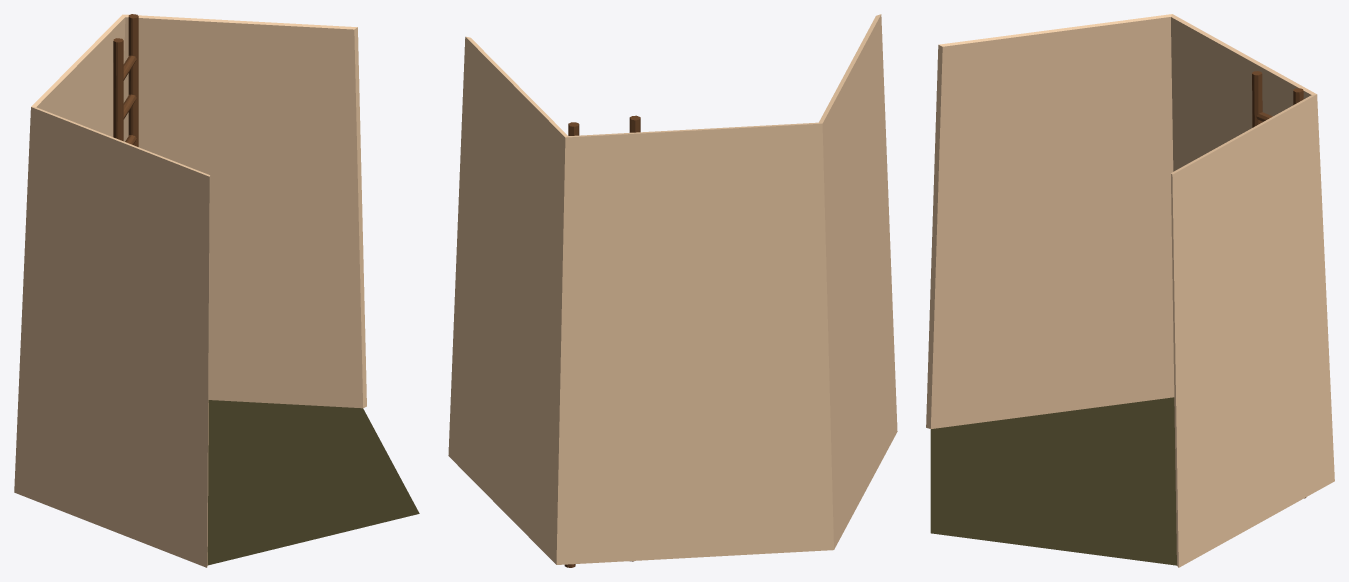
File: stage_4.fbx
3 views of the same model, side by side, from view 1: azimuth 30°, elevation 25°; view 2: azimuth 150°, elevation 25°; view 3: azimuth 270°, elevation 25° (orthographic). The views are drawn at different scales.
Visible parts, largest first — view 1: Plane, Cylinder.002; view 2: Plane; view 3: Plane, Cylinder.002.
Boxes of the visible parts, x1,y1,x2,y2 form: Plane: (14,14,419,567); Cylinder.002: (113,14,138,146); Plane: (448,14,897,564); Plane: (926,14,1334,567); Cylinder.002: (1252,71,1306,498).
Bounding box in the file's own units: 802 × 876 × 799.
